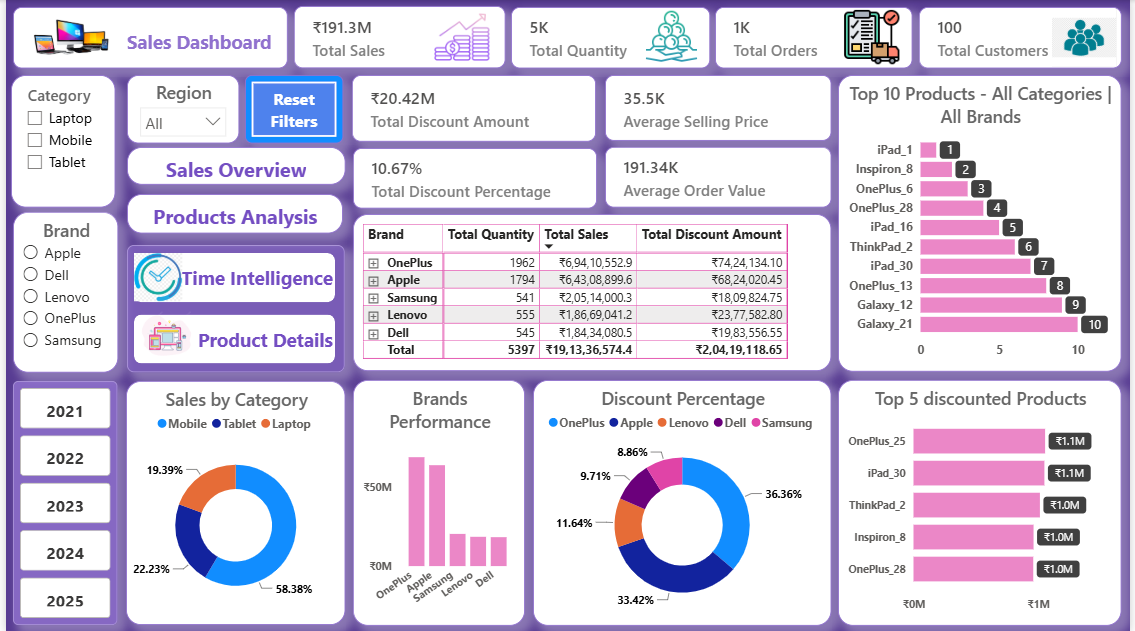

What the dashboard file says about the page in this screenshot:
{"tool":"powerbi","page":{"name":"Sales Dashboard","canvas":[1280,720],"ordinal":0},"visuals":[{"type":"cardVisual","fields":{"Data":["Sales_Fact.Total Sales"]},"box":[327.8,6.8,241.2,71],"z":0},{"type":"cardVisual","fields":{"Data":["Sales_Fact.Total Quantity"]},"box":[574.8,7.8,226.6,70],"z":1000},{"type":"cardVisual","fields":{"Data":["Sales_Fact.Total Customers"]},"box":[1039.8,7.8,231.5,70],"z":2000},{"type":"cardVisual","fields":{"Data":["Sales_Fact.Total Orders"]},"box":[808.3,7.8,224.7,70],"z":3000},{"type":"shape","title":"Sales Dashboard","box":[7.8,7.8,313.2,70],"z":4000},{"type":"image","box":[15,10,121,65],"z":5000},{"type":"textbox","box":[128.4,27.2,182.9,39.9],"z":7000},{"type":"slicer","title":"Region","fields":{"Values":["Region.Region"]},"box":[137.4,85.1,127.7,78],"z":11000},{"type":"listSlicer","fields":{"Values":["Products.Brand"]},"box":[8,241,120,183],"z":12000},{"type":"slicer","fields":{"Values":["Products.Category"]},"box":[6,85,119,151],"z":13000},{"type":"advancedSlicerVisual","fields":{"Values":["Calendar.Year"]},"box":[8,434,119,278],"z":14000},{"type":"cardVisual","fields":{"Data":["Sales_Fact.Discount Amount"]},"box":[394.6,85.1,278.4,76.3],"z":15000},{"type":"cardVisual","fields":{"Data":["Sales_Fact.Total Discount Percentage"]},"box":[394.9,168.3,278.2,69.1],"z":16000},{"type":"cardVisual","fields":{"Data":["Sales_Fact.Average Order Value"]},"box":[682,168,258,69],"z":17000},{"type":"image","box":[481.5,10.7,74.9,64.2],"z":19000},{"type":"image","box":[1191.5,9.7,72.9,65.2],"z":20000},{"type":"image","box":[712.9,9.7,89.5,62.2],"z":21000},{"type":"image","box":[948.3,10.7,76.8,64.2],"z":22000},{"type":"clusteredColumnChart","title":"Brands Performance","fields":{"Category":["Products.Brand"],"Y":["Sales_Fact.Total Sales"]},"box":[395,433,196,280],"z":23000},{"type":"pivotTable","fields":{"Rows":["Products.Brand","Products.Product_Name"],"Values":["Sales_Fact.Total Quantity","Sales_Fact.Total Sales","Sales_Fact.Total Discount Amount"]},"box":[395,244,545,179],"z":24000},{"type":"donutChart","title":"Sales by Category","fields":{"Category":["Products.Category"],"Y":["Sales_Fact.Total Sales"]},"box":[137,434,250,278],"z":25000},{"type":"pieChart","title":"Discount Percentage","fields":{"Category":["Products.Brand"],"Y":["Sales_Fact.Total Discount Amount"]},"box":[600,433,340,280],"z":26000},{"type":"barChart","title":"Top 5 discounted Products","fields":{"Category":["Products.Product_Name"],"Y":["Sales_Fact.Total Discount Amount"]},"box":[948,433,323,280],"z":27000},{"type":"actionButton","title":"Reset Filters","box":[272.2,85.1,111.7,78],"z":28000},{"type":"shape","box":[137.3,278.6,248.3,145.4],"z":29000},{"type":"pageNavigator","box":[145.7,287.9,229.9,126.7],"z":30000},{"type":"image","box":[145.7,287.9,55.2,55.2],"z":31000},{"type":"image","box":[145.7,351.2,74.2,63.4],"z":32000},{"type":"cardVisual","fields":{"Data":["Sales_Fact.Average Selling Price"]},"box":[682.2,85.6,257.8,75.3],"z":33000},{"type":"actionButton","box":[138,167.7,248.7,43.4],"z":34000},{"type":"actionButton","box":[137.3,221.1,246.3,45.4],"z":35000},{"type":"clusteredBarChart","fields":{"Y":["Sales_Fact.Products Ranks"],"Category":["Products.Product_Name"]},"box":[948,86,323,338],"z":35001}]}

Visuals, with their boxes in screenshot pixels (x1, y1, x2, y2), scaled from the page's 1280x720 canvas onto the 1135x631 screenshot:
cardVisual - Sales_Fact.Total Sales: x1=291 y1=6 x2=505 y2=68
cardVisual - Sales_Fact.Total Quantity: x1=510 y1=7 x2=711 y2=68
cardVisual - Sales_Fact.Total Customers: x1=922 y1=7 x2=1127 y2=68
cardVisual - Sales_Fact.Total Orders: x1=717 y1=7 x2=916 y2=68
"Sales Dashboard" shape: x1=7 y1=7 x2=285 y2=68
image: x1=13 y1=9 x2=121 y2=66
textbox: x1=114 y1=24 x2=276 y2=59
"Region" slicer: x1=122 y1=75 x2=235 y2=143
listSlicer - Products.Brand: x1=7 y1=211 x2=114 y2=372
slicer - Products.Category: x1=5 y1=74 x2=111 y2=207
advancedSlicerVisual - Calendar.Year: x1=7 y1=380 x2=113 y2=624
cardVisual - Sales_Fact.Discount Amount: x1=350 y1=75 x2=597 y2=141
cardVisual - Sales_Fact.Total Discount Percentage: x1=350 y1=147 x2=597 y2=208
cardVisual - Sales_Fact.Average Order Value: x1=605 y1=147 x2=834 y2=208
image: x1=427 y1=9 x2=493 y2=66
image: x1=1057 y1=9 x2=1121 y2=66
image: x1=632 y1=9 x2=712 y2=63
image: x1=841 y1=9 x2=909 y2=66
"Brands Performance" clusteredColumnChart: x1=350 y1=379 x2=524 y2=625
pivotTable - Products.Brand x Products.Product_Name: x1=350 y1=214 x2=834 y2=371
"Sales by Category" donutChart: x1=121 y1=380 x2=343 y2=624
"Discount Percentage" pieChart: x1=532 y1=379 x2=834 y2=625
"Top 5 discounted Products" barChart: x1=841 y1=379 x2=1127 y2=625
"Reset Filters" actionButton: x1=241 y1=75 x2=340 y2=143
shape: x1=122 y1=244 x2=342 y2=372
pageNavigator: x1=129 y1=252 x2=333 y2=363
image: x1=129 y1=252 x2=178 y2=301
image: x1=129 y1=308 x2=195 y2=363
cardVisual - Sales_Fact.Average Selling Price: x1=605 y1=75 x2=834 y2=141
actionButton: x1=122 y1=147 x2=343 y2=185
actionButton: x1=122 y1=194 x2=340 y2=234
clusteredBarChart - Sales_Fact.Products Ranks x Products.Product_Name: x1=841 y1=75 x2=1127 y2=372
